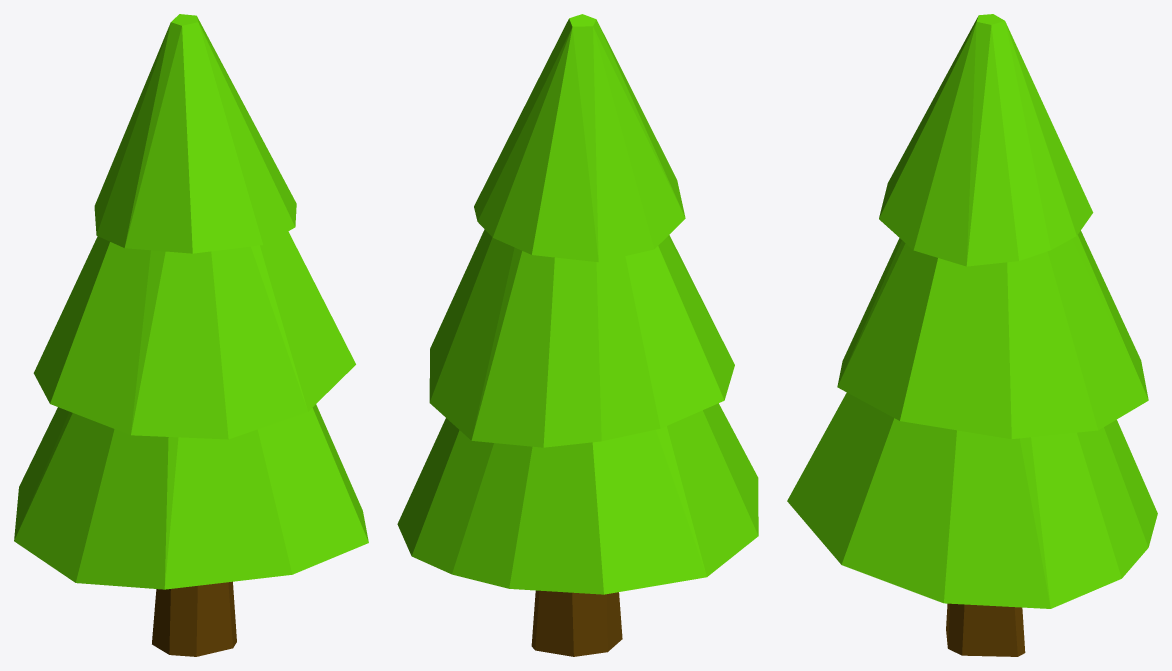
The model's file is Pine_Tree_1.fbx.
3 renders of one model, left to right at view 1: azimuth 30°, elevation 25°; view 2: azimuth 150°, elevation 25°; view 3: azimuth 270°, elevation 25°, orthographic.
Parts seen in each view (by area): view 1: Pine Tree 1; view 2: Pine Tree 1; view 3: Pine Tree 1.
Part boxes in pixels (<box>): Pine Tree 1: <box>14,14,368,656</box>; Pine Tree 1: <box>397,14,758,656</box>; Pine Tree 1: <box>787,14,1157,656</box>.
Size of the model in its own units: 88.82 by 175 by 94.83.
